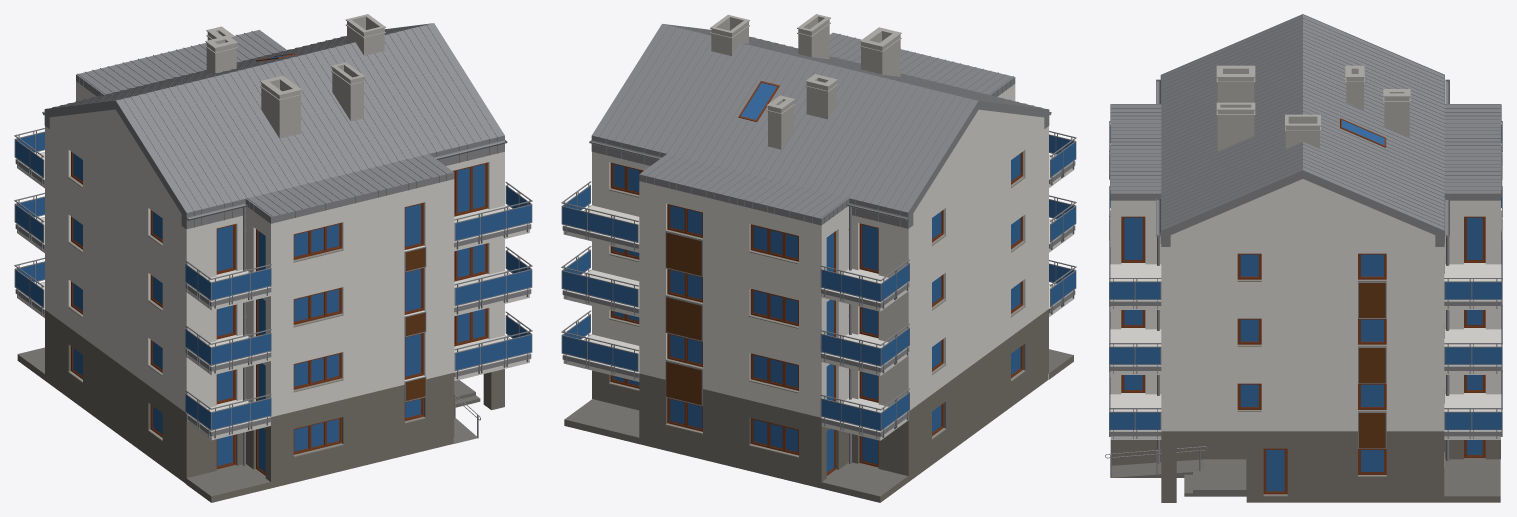
The model's file is building_04.obj.
3 renders of one model, left to right at view 1: azimuth 30°, elevation 25°; view 2: azimuth 150°, elevation 25°; view 3: azimuth 270°, elevation 25°, orthographic.
Parts seen in each view (by area): view 1: building_walls, roof, foundation_wall, window_005, barrels, chimney, balcony, metal_cover, terrace, boards, eneter_floor, gutters_003; view 2: building_walls, roof, foundation_wall, window_005, barrels, chimney, balcony, terrace, boards_001, metal_cover, window_roof, gutters_003; view 3: building_walls, roof, foundation_wall, window_005, barrels, balcony, chimney, boards_001, eneter_floor, terrace, metal_cover, roof_plate (+3 smaller).
Part boxes in pixels (x1,y1,x2,y2): building_walls: [45, 81, 504, 417]; roof: [44, 23, 504, 229]; foundation_wall: [45, 310, 454, 488]; window_005: [68, 151, 487, 475]; barrels: [14, 128, 532, 438]; chimney: [205, 14, 385, 138]; balcony: [17, 152, 529, 440]; metal_cover: [15, 152, 531, 436]; terrace: [17, 347, 270, 502]; boards: [404, 246, 426, 402]; eneter_floor: [453, 380, 480, 443]; gutters_003: [42, 111, 507, 220]; building_walls: [592, 84, 1048, 417]; roof: [591, 23, 1049, 228]; foundation_wall: [592, 309, 1048, 488]; window_005: [609, 152, 1025, 475]; barrels: [561, 130, 1076, 438]; chimney: [710, 14, 901, 149]; balcony: [563, 155, 1073, 440]; terrace: [564, 349, 1073, 502]; boards_001: [665, 232, 702, 406]; metal_cover: [562, 155, 1075, 436]; window_roof: [738, 81, 779, 121]; gutters_003: [589, 111, 1051, 220]; building_walls: [1110, 179, 1500, 502]; roof: [1110, 14, 1501, 246]; foundation_wall: [1110, 431, 1500, 502]; window_005: [1110, 165, 1502, 496]; barrels: [1109, 121, 1502, 438]; balcony: [1110, 263, 1500, 439]; chimney: [1216, 65, 1410, 151]; boards_001: [1358, 213, 1501, 448]; eneter_floor: [1111, 459, 1246, 496]; terrace: [1444, 458, 1500, 502]; metal_cover: [1109, 145, 1501, 436]; roof_plate: [1110, 193, 1500, 200].
Bounding box in the file's own units: 6.12 × 6.34 × 6.55.
